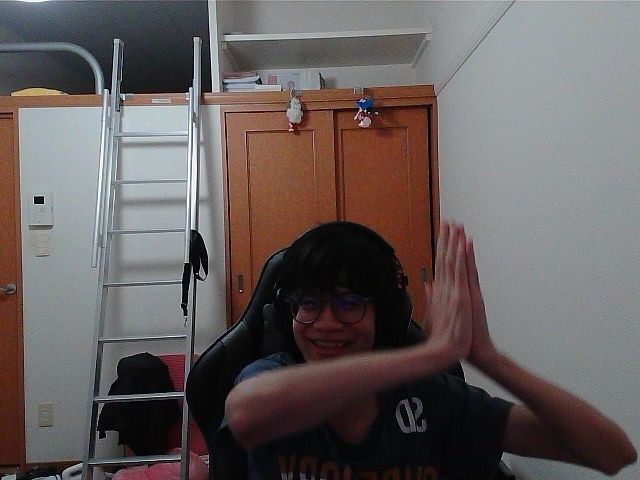pray: (422, 224, 468, 339)
